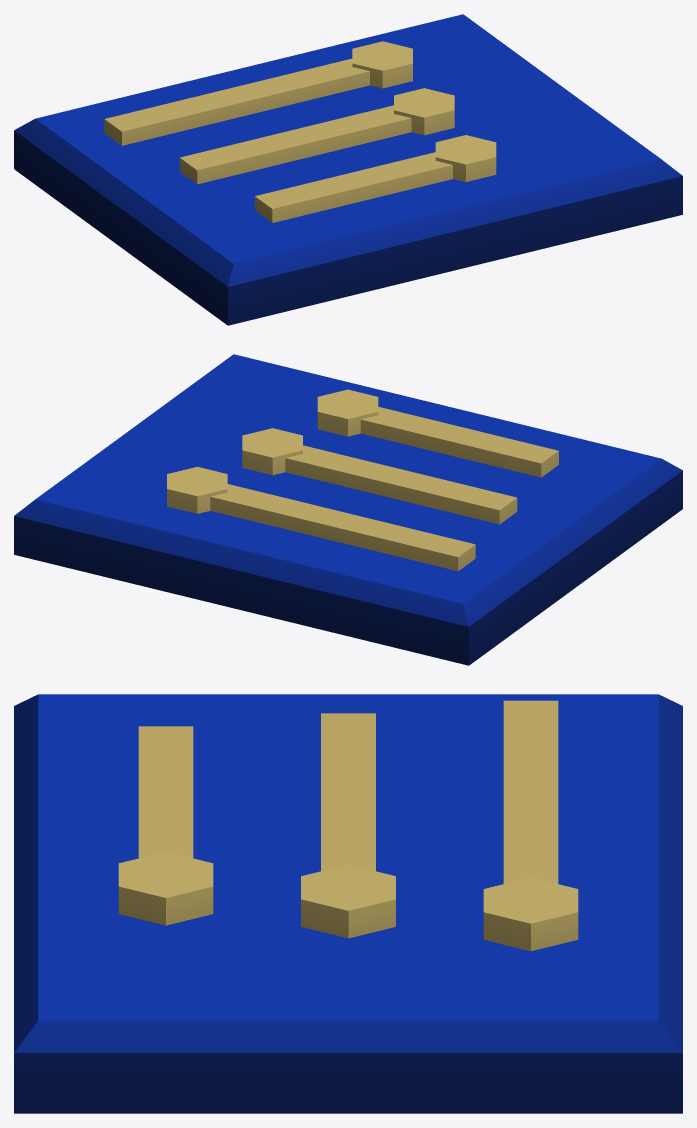
Rendered from processing-unit.glb.
The picture shows the model from 3 angles, top to bottom: view 1: azimuth 30°, elevation 25°; view 2: azimuth 150°, elevation 25°; view 3: azimuth 270°, elevation 25°; orthographic projection. The views are drawn at different scales.
Visible parts, largest first — view 1: processing-unit; view 2: processing-unit; view 3: processing-unit.
Boxes of the visible parts, bbox=[...] form: processing-unit: bbox=[14, 14, 682, 325]; processing-unit: bbox=[14, 354, 682, 665]; processing-unit: bbox=[14, 694, 682, 1113].
Size of the model in its own units: 0.27 by 0.04 by 0.22.
